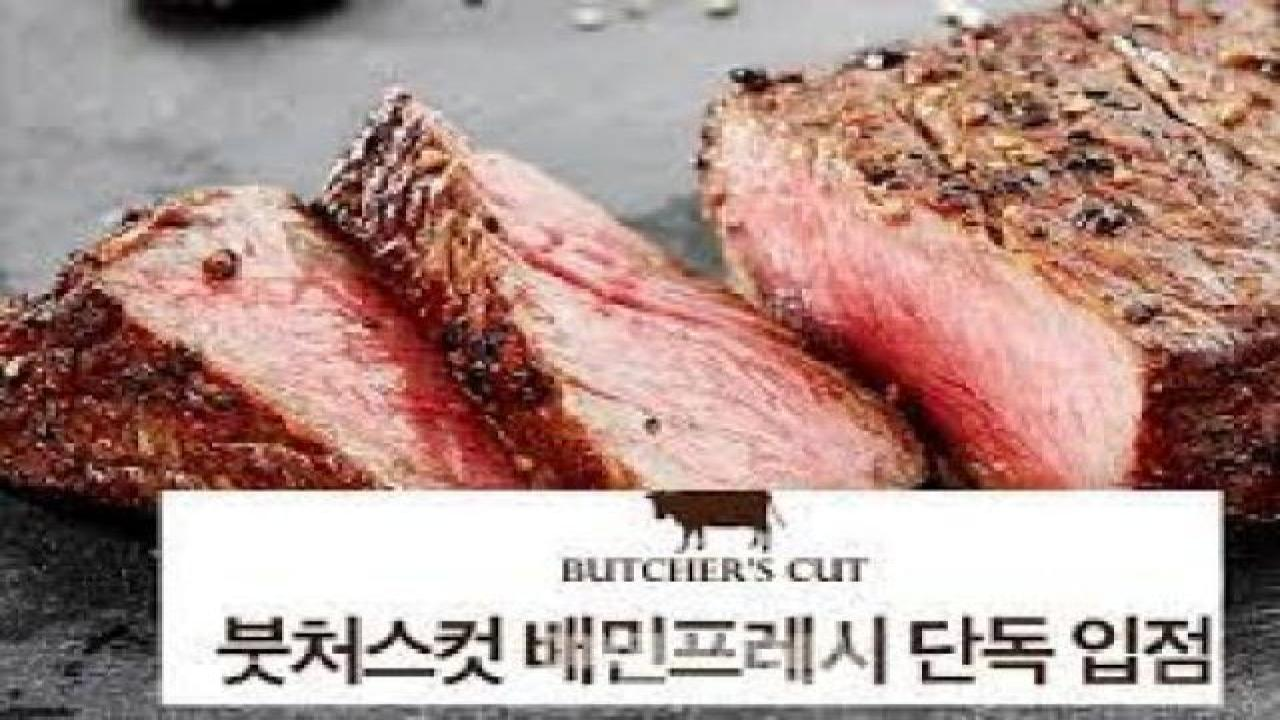Carne: (303, 81, 939, 478), (614, 94, 1174, 451), (137, 132, 496, 495)
